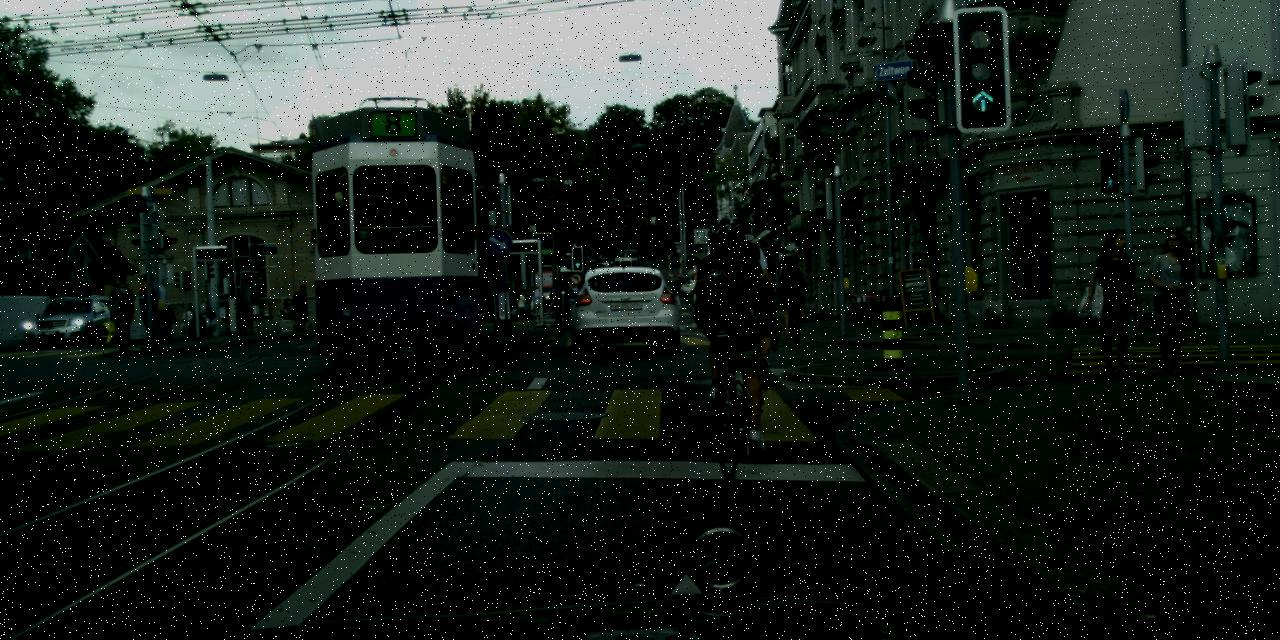ped: (688, 216, 771, 421), (704, 216, 775, 392), (1086, 229, 1146, 374), (1143, 230, 1201, 370), (108, 275, 138, 349), (776, 253, 806, 327), (132, 273, 161, 346), (142, 274, 170, 344), (292, 283, 312, 331), (565, 282, 581, 322), (513, 288, 529, 326), (158, 302, 173, 338)
